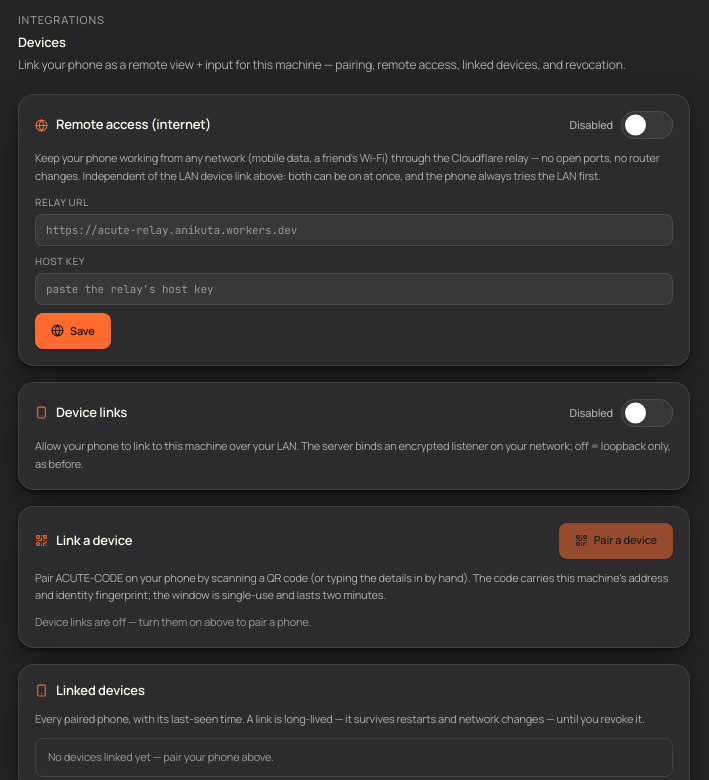
Test case: DevicesTab §a2: the remote-access card (ROUND-112 R112-a) › Save PUTs the typed draft {enabled, relayUrl, hostKey} and notes the save
Expected: the text "Remote access (internet)" is shown, x1=56 y1=115 x2=211 y2=135
# Flip the toggle + type the relay URL + a host key, then Save.
Click the switch named "Toggle remote access": x=647, y=125 x1=621 y1=111 x2=673 y2=139
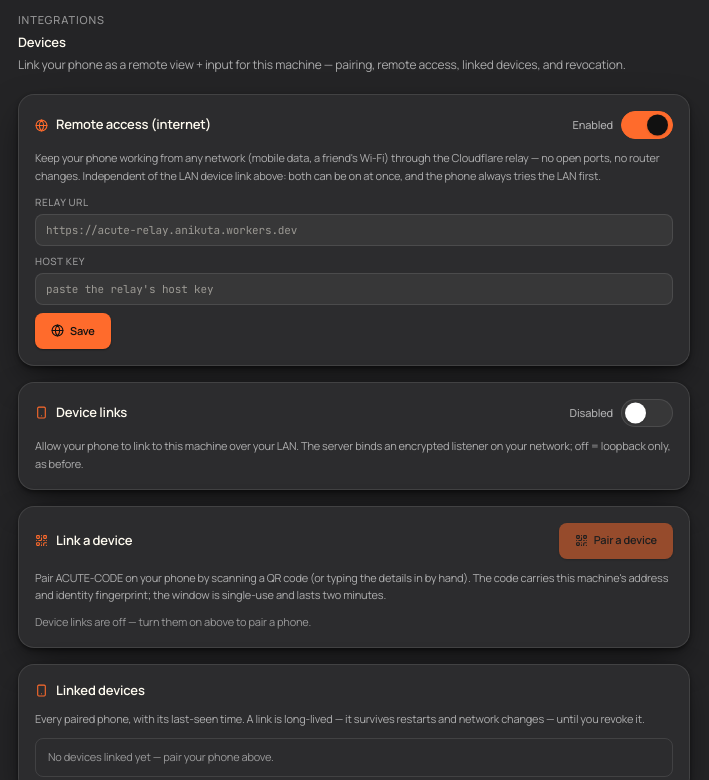
In the field with test id "remote-relay-input": x=354, y=230 x1=35 y1=214 x2=673 y2=246, type "https://acute-relay.example.workers.dev"
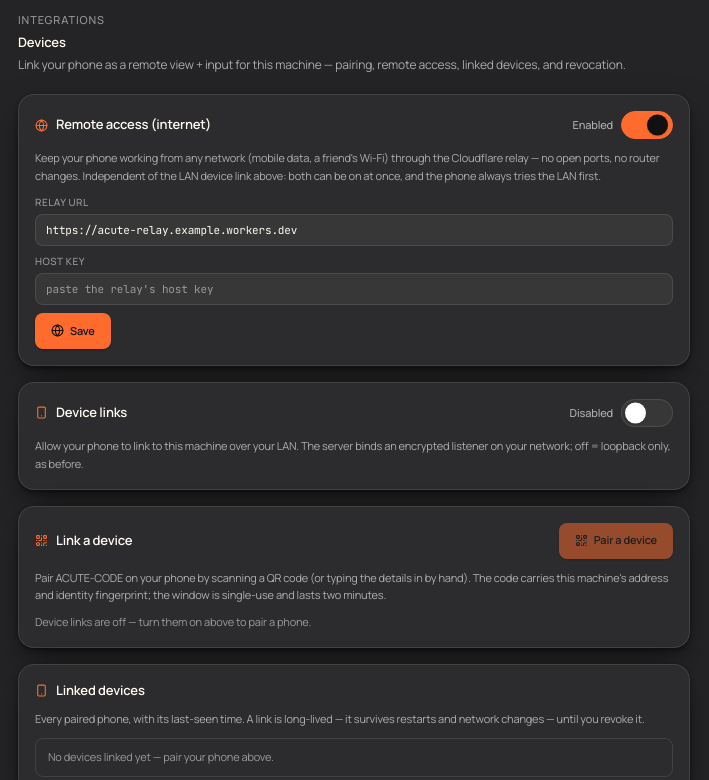
In the password field with test id "remote-hostkey-input": x=354, y=289 x1=35 y1=273 x2=673 y2=305, type "host-key-r112"
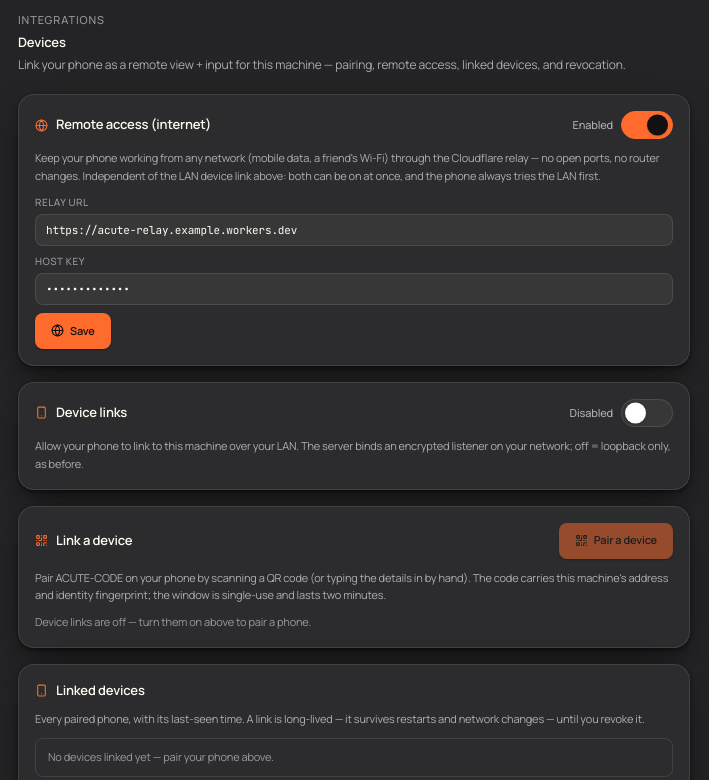
Click the button with test id "remote-save": x=73, y=331 x1=35 y1=313 x2=111 y2=349
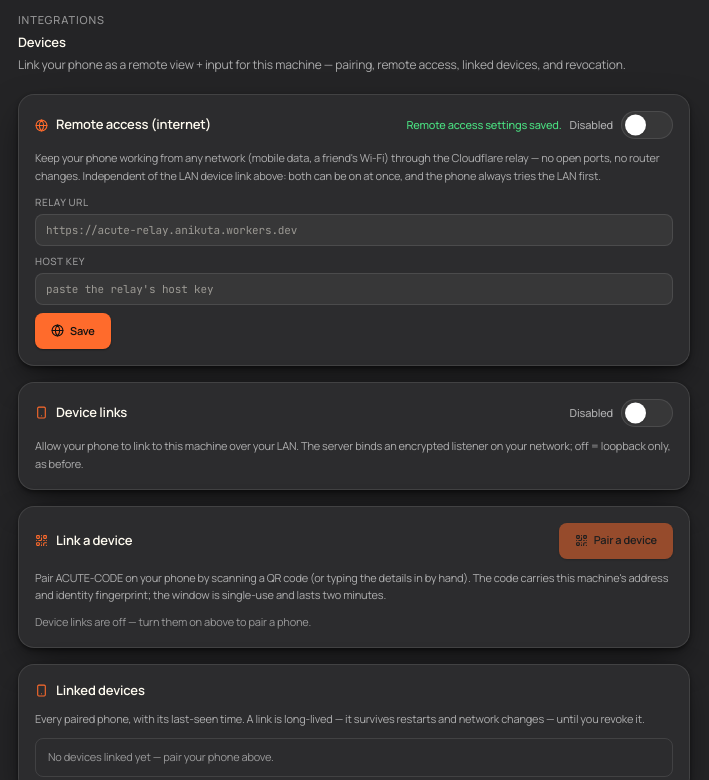
Result: the text "Remote access settings saved." is shown at x1=406 y1=117 x2=562 y2=133
